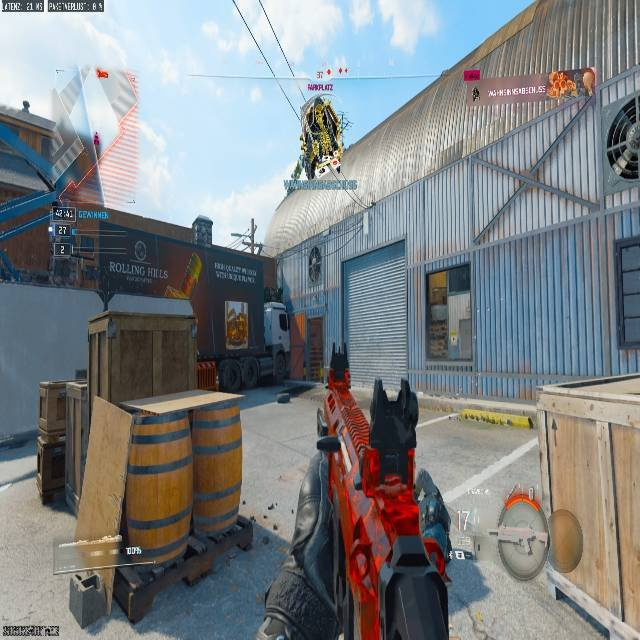player: (299, 94, 345, 176), (308, 246, 322, 281)
